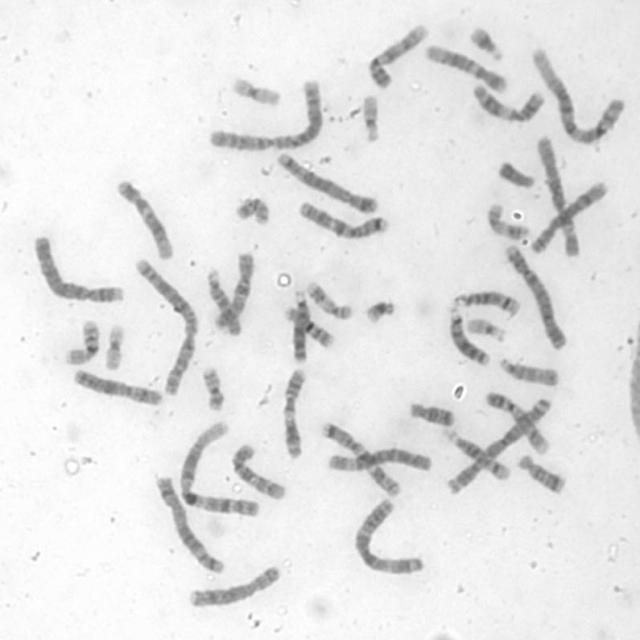A1: (528, 43, 626, 145), (175, 418, 262, 520)
A2: (132, 256, 200, 396), (204, 74, 324, 153)
A3: (443, 393, 554, 497), (352, 495, 425, 576)
B4: (501, 240, 570, 352), (32, 232, 126, 305)
B5: (151, 472, 228, 576), (273, 148, 381, 215)
C10: (229, 440, 290, 502), (212, 249, 257, 332)
C11: (469, 80, 547, 123), (278, 363, 308, 461)
C12: (112, 175, 176, 261), (421, 40, 510, 94)
C6: (532, 132, 582, 261), (324, 444, 434, 474)
C7: (316, 418, 404, 498), (294, 198, 390, 242)
C8: (526, 177, 611, 256), (185, 564, 282, 608)
C9: (480, 386, 552, 457), (364, 21, 430, 89)
D13: (445, 304, 491, 368), (289, 288, 311, 364)
D14: (441, 428, 511, 482), (448, 286, 522, 316)
D15: (204, 264, 243, 337), (495, 354, 561, 388)
E16: (282, 303, 336, 349), (61, 316, 102, 366)
E17: (302, 277, 354, 321), (485, 201, 531, 240)
E18: (515, 451, 567, 496), (407, 398, 457, 428)
F19: (230, 74, 282, 108), (102, 320, 126, 372)
F20: (199, 363, 226, 412), (233, 193, 271, 227)
G21: (464, 20, 506, 61), (362, 297, 397, 325)
G22: (359, 90, 383, 144), (464, 314, 508, 342)
X: (69, 365, 165, 407)
Y: (494, 158, 536, 189)
